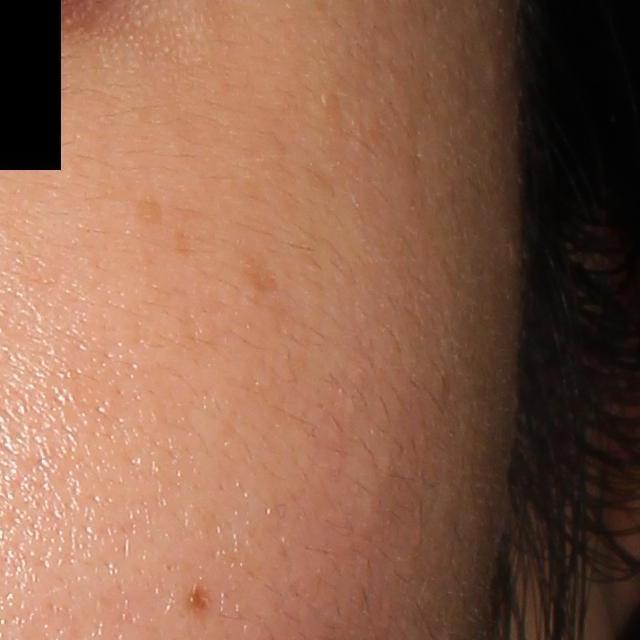melasma: (235, 236, 290, 297), (132, 201, 165, 234), (171, 227, 193, 264)
nevus: (184, 577, 223, 616)
